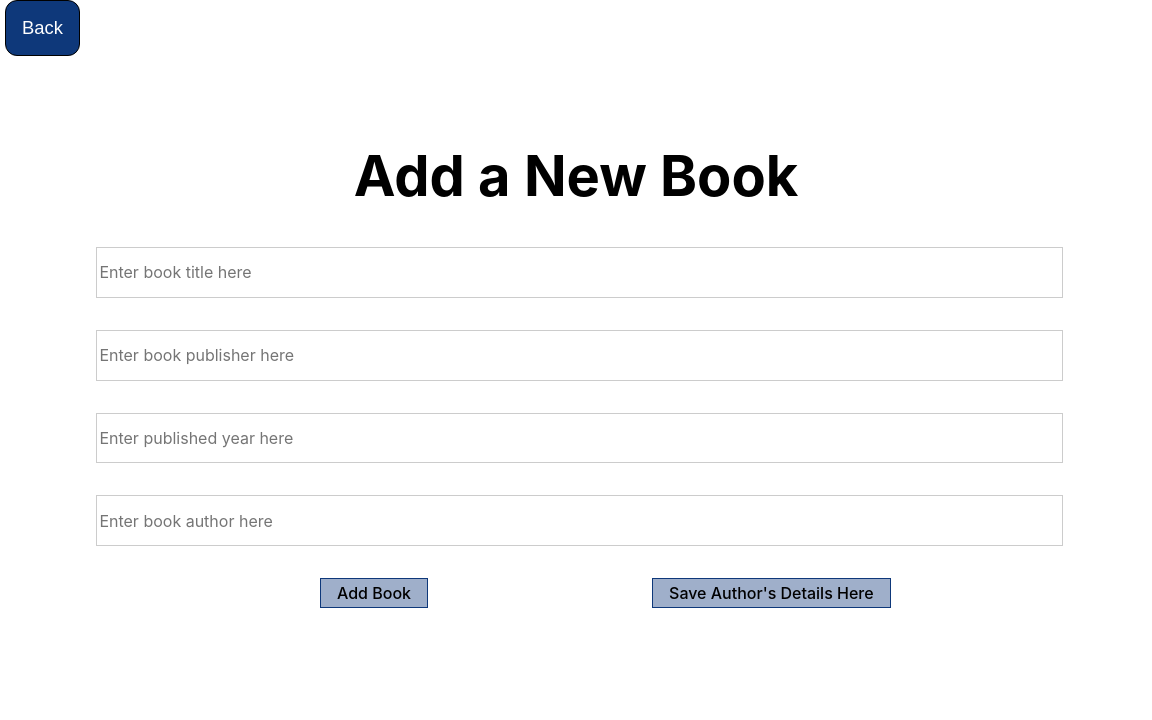
Test: AddBook › Test error if input year is negative
The width and height of the screenshot is (1152, 720).
# Set input values via the elements on the component
Type "012345678901234567890123456789012345678912345" into the field with placeholder "Enter book title here" at (579, 272), box x1=96 y1=247 x2=1063 y2=298
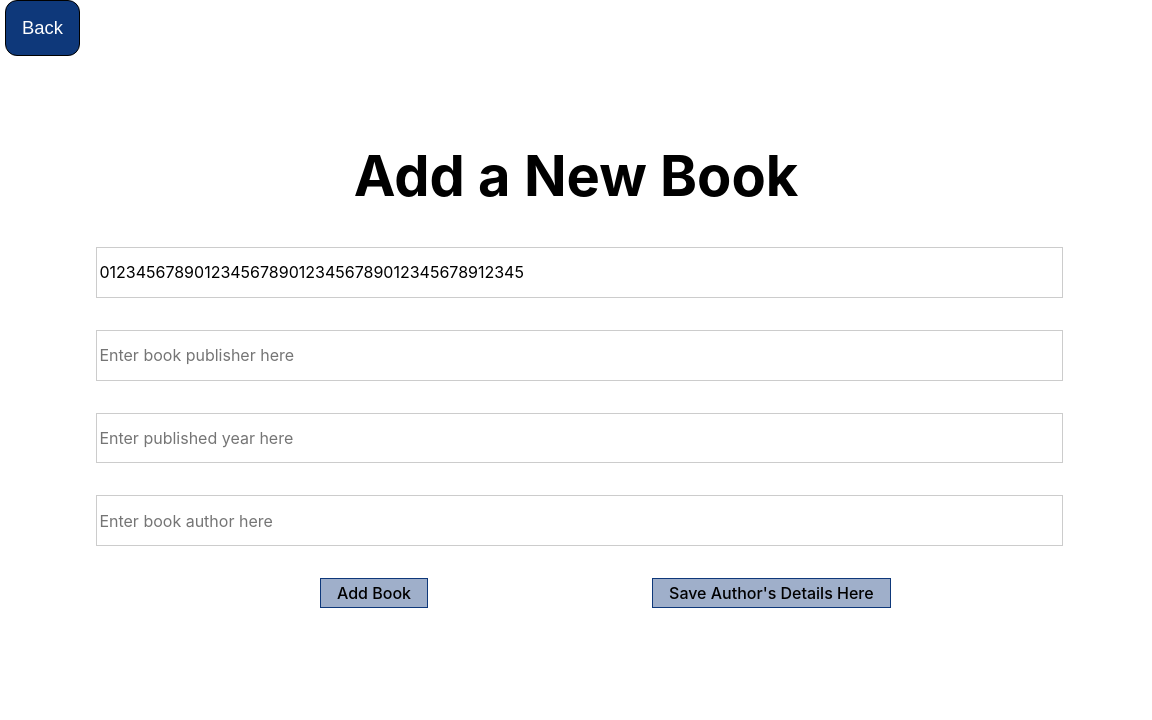
Type "012345678901234567890123456789012345678912345" into the field with placeholder "Enter book publisher here" at (579, 355), box x1=96 y1=330 x2=1063 y2=381
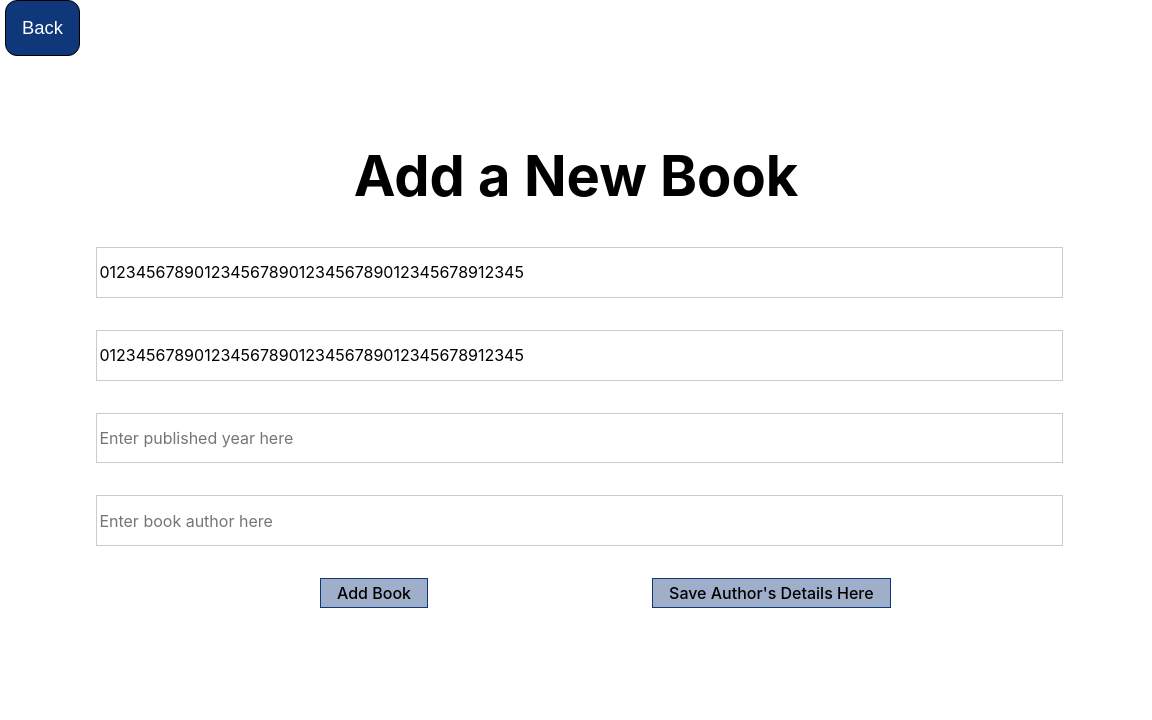
Type "-1000" into the number field with placeholder "Enter published year here" at (579, 438), box x1=96 y1=413 x2=1063 y2=463
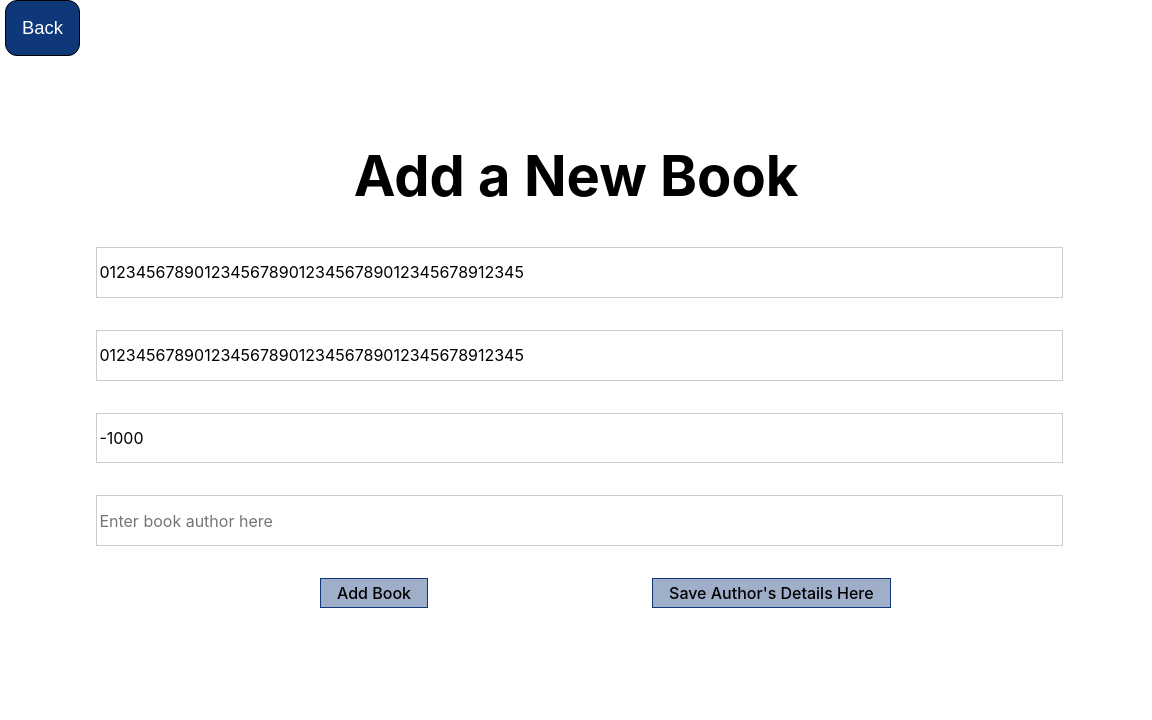
Type "012345678901234567890123456789012345678912345" into the field with placeholder "Enter book author here" at (579, 521), box x1=96 y1=495 x2=1063 y2=546
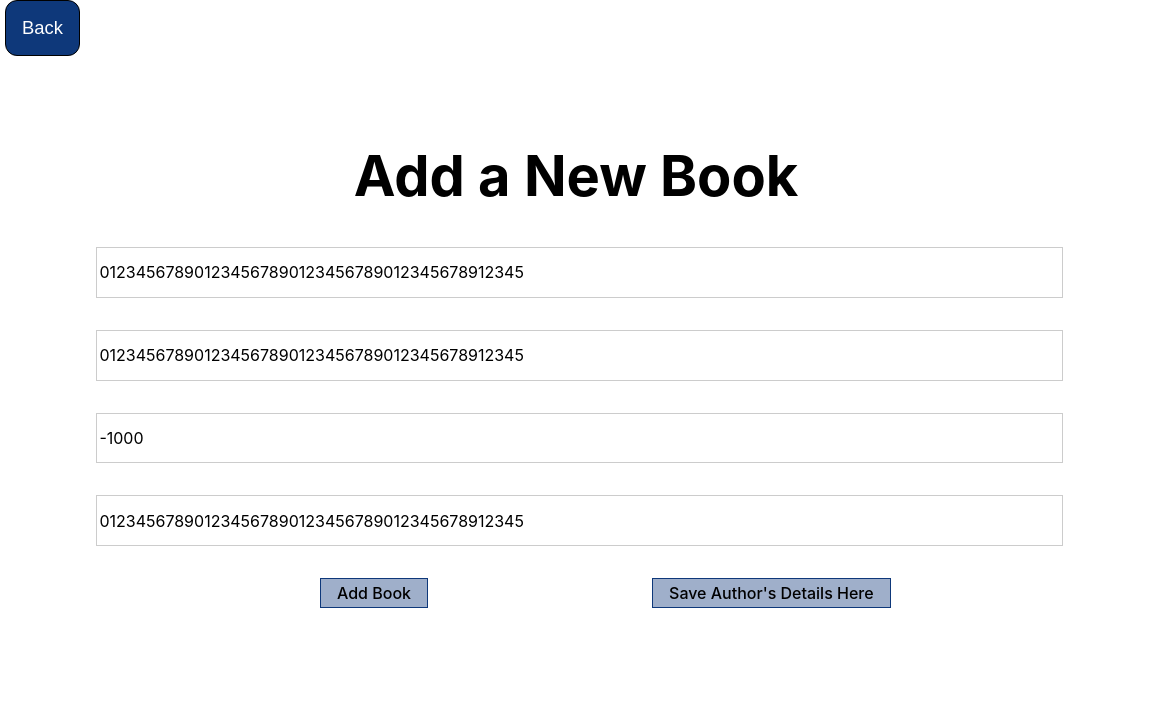
# Click add book button on the component
Click the button "Add Book" at (374, 593), box x1=320 y1=578 x2=428 y2=608
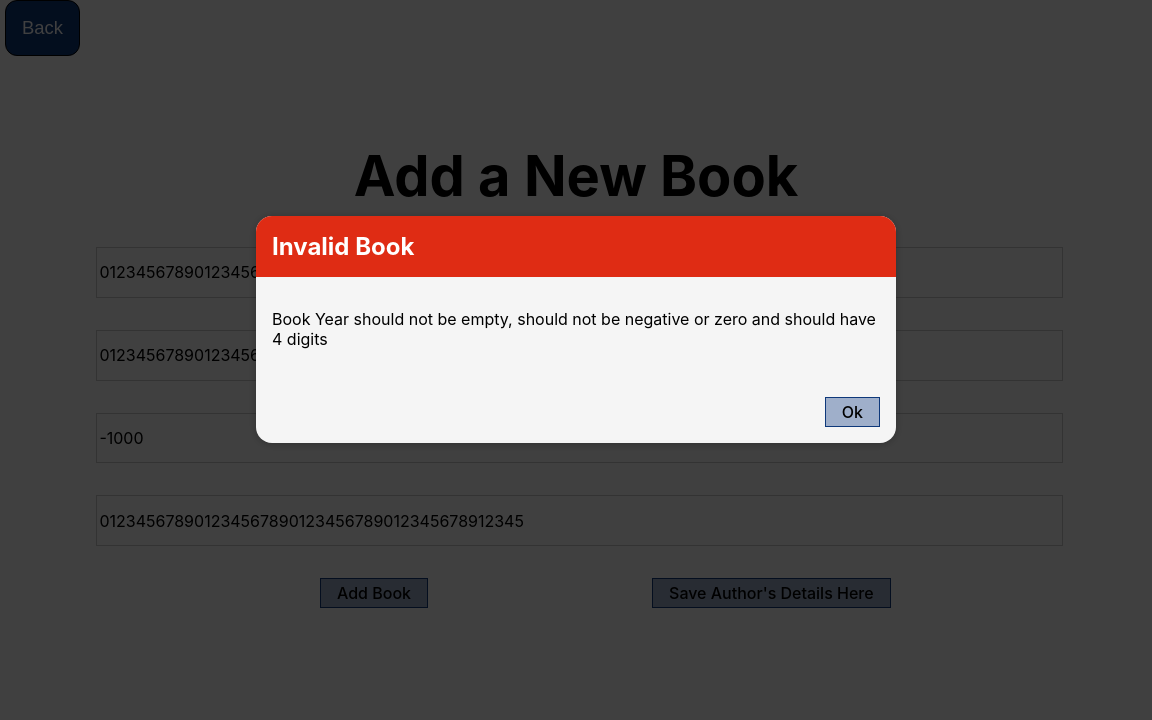
Expected: the heading "Invalid Book" is shown, x1=272 y1=232 x2=414 y2=261
Expected: the text "Book Year should not be empty, should not be negative or zero and should have 4 digits" is shown, x1=272 y1=309 x2=876 y2=349
